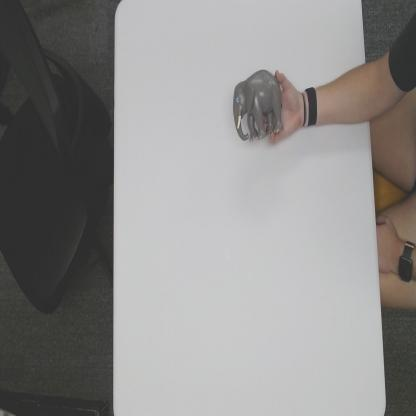Arm: (317, 62, 370, 125)
Elephant: (233, 70, 284, 145)
Hand: (263, 70, 304, 146)
